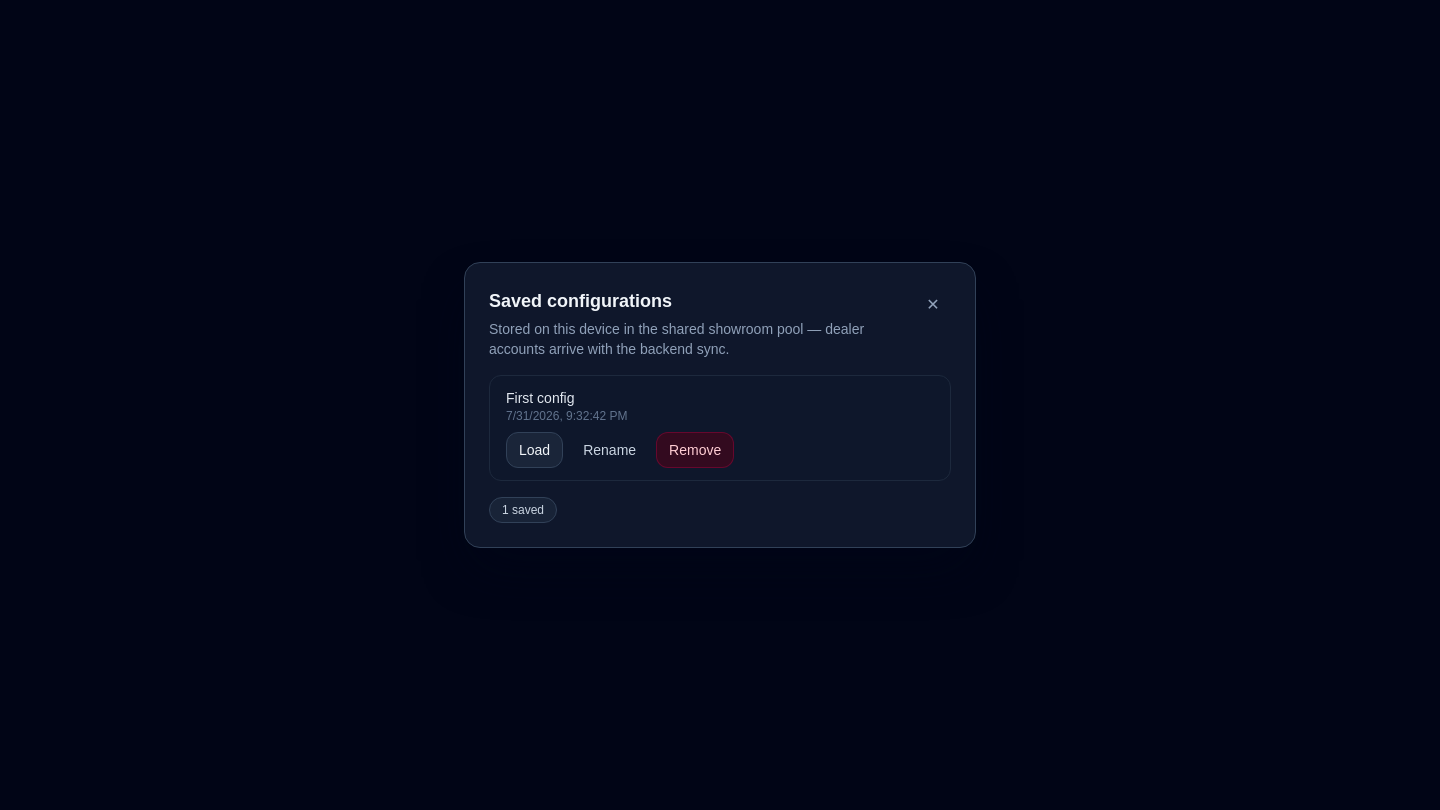
SavedConfigurationsDialog › renames via the inline editor (Enter commits)
This screenshot has width=1440, height=810.
Click the button with aria-label "Rename First config" at [610, 450], box [571,432,648,468]
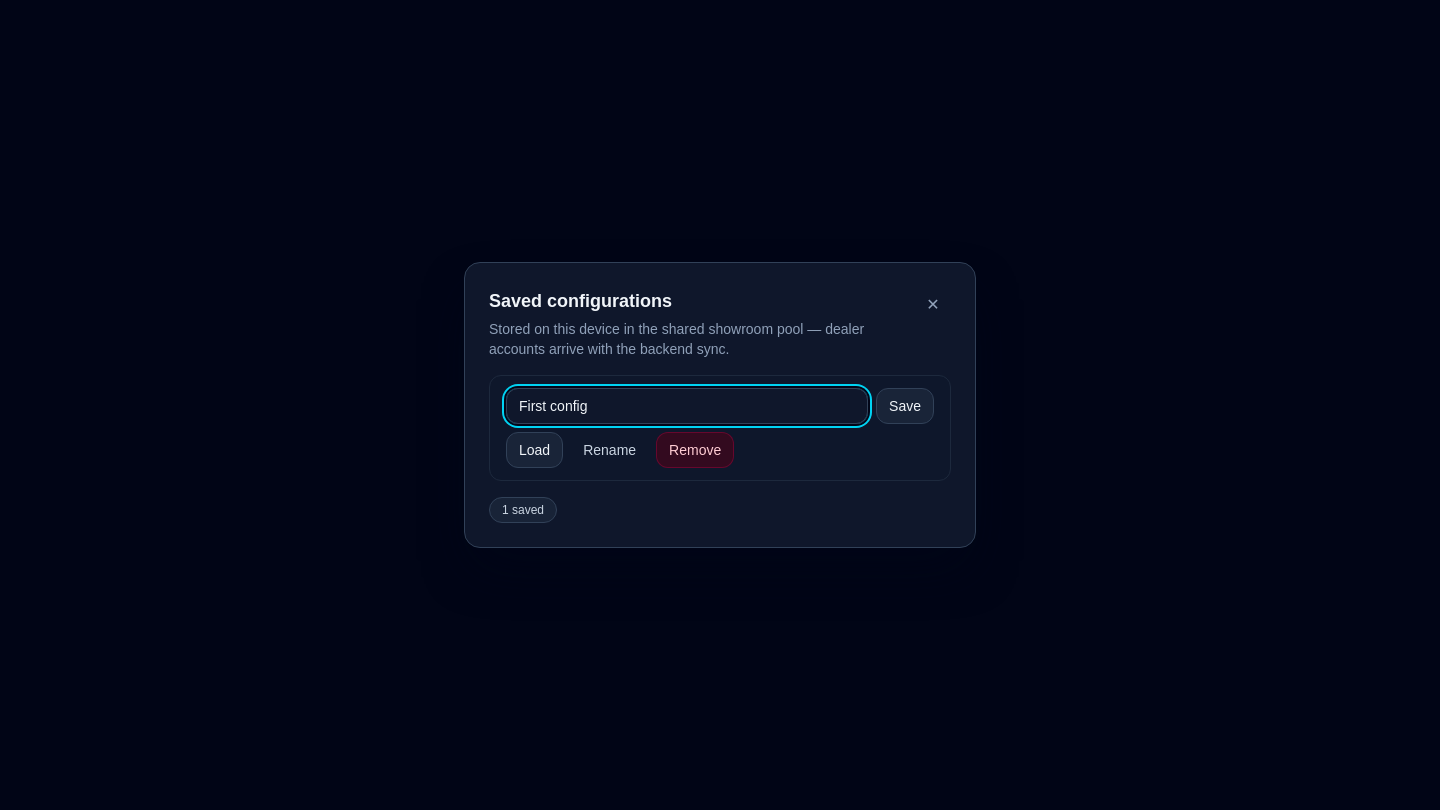
Replace the text in the field named "Configuration name" with "Mrs Nkosi" at [687, 406], box [506,388,868,424]
Then press Enter
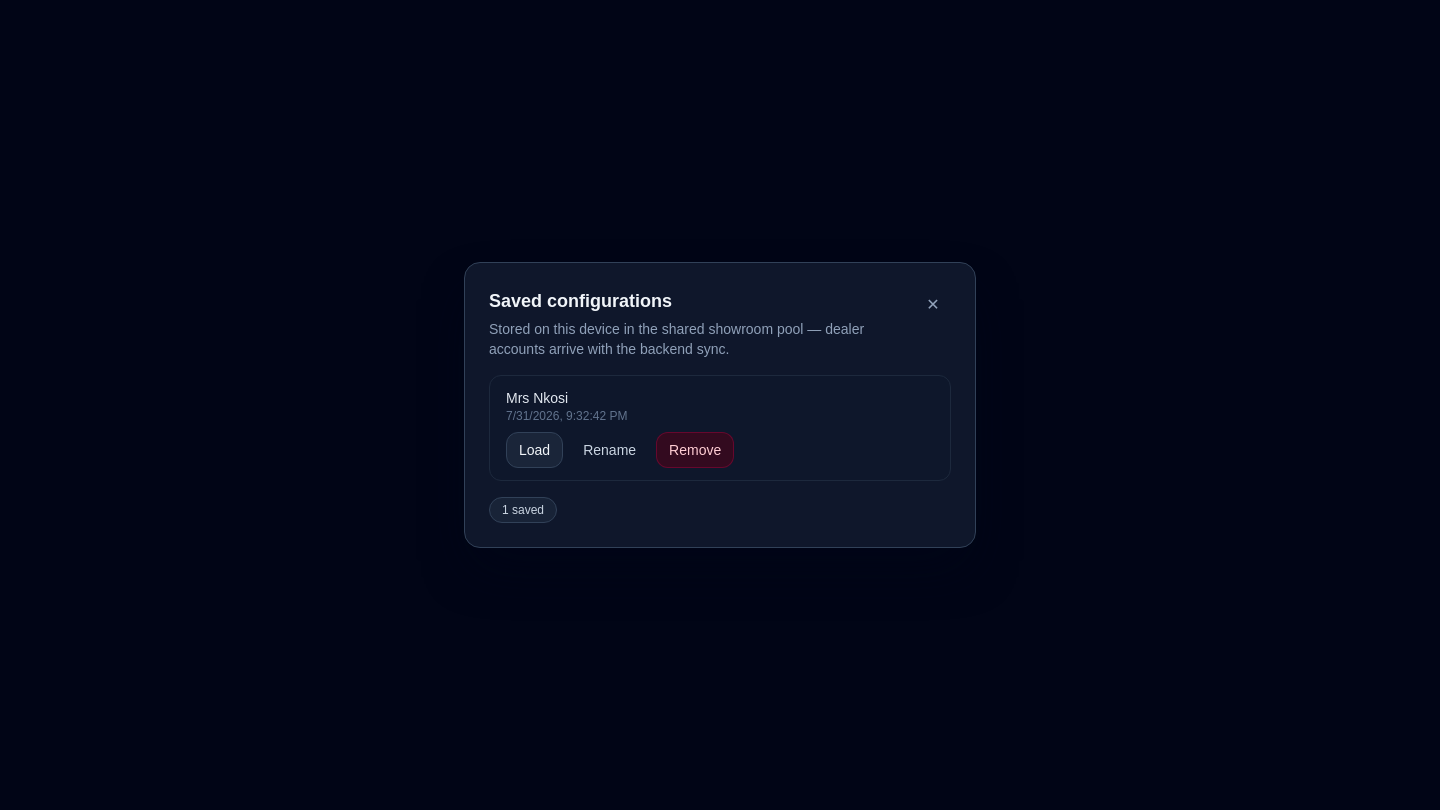
Check: the field labelled "Configuration name" is not shown
Check: the text "Mrs Nkosi" is shown, box [506,390,568,406]
